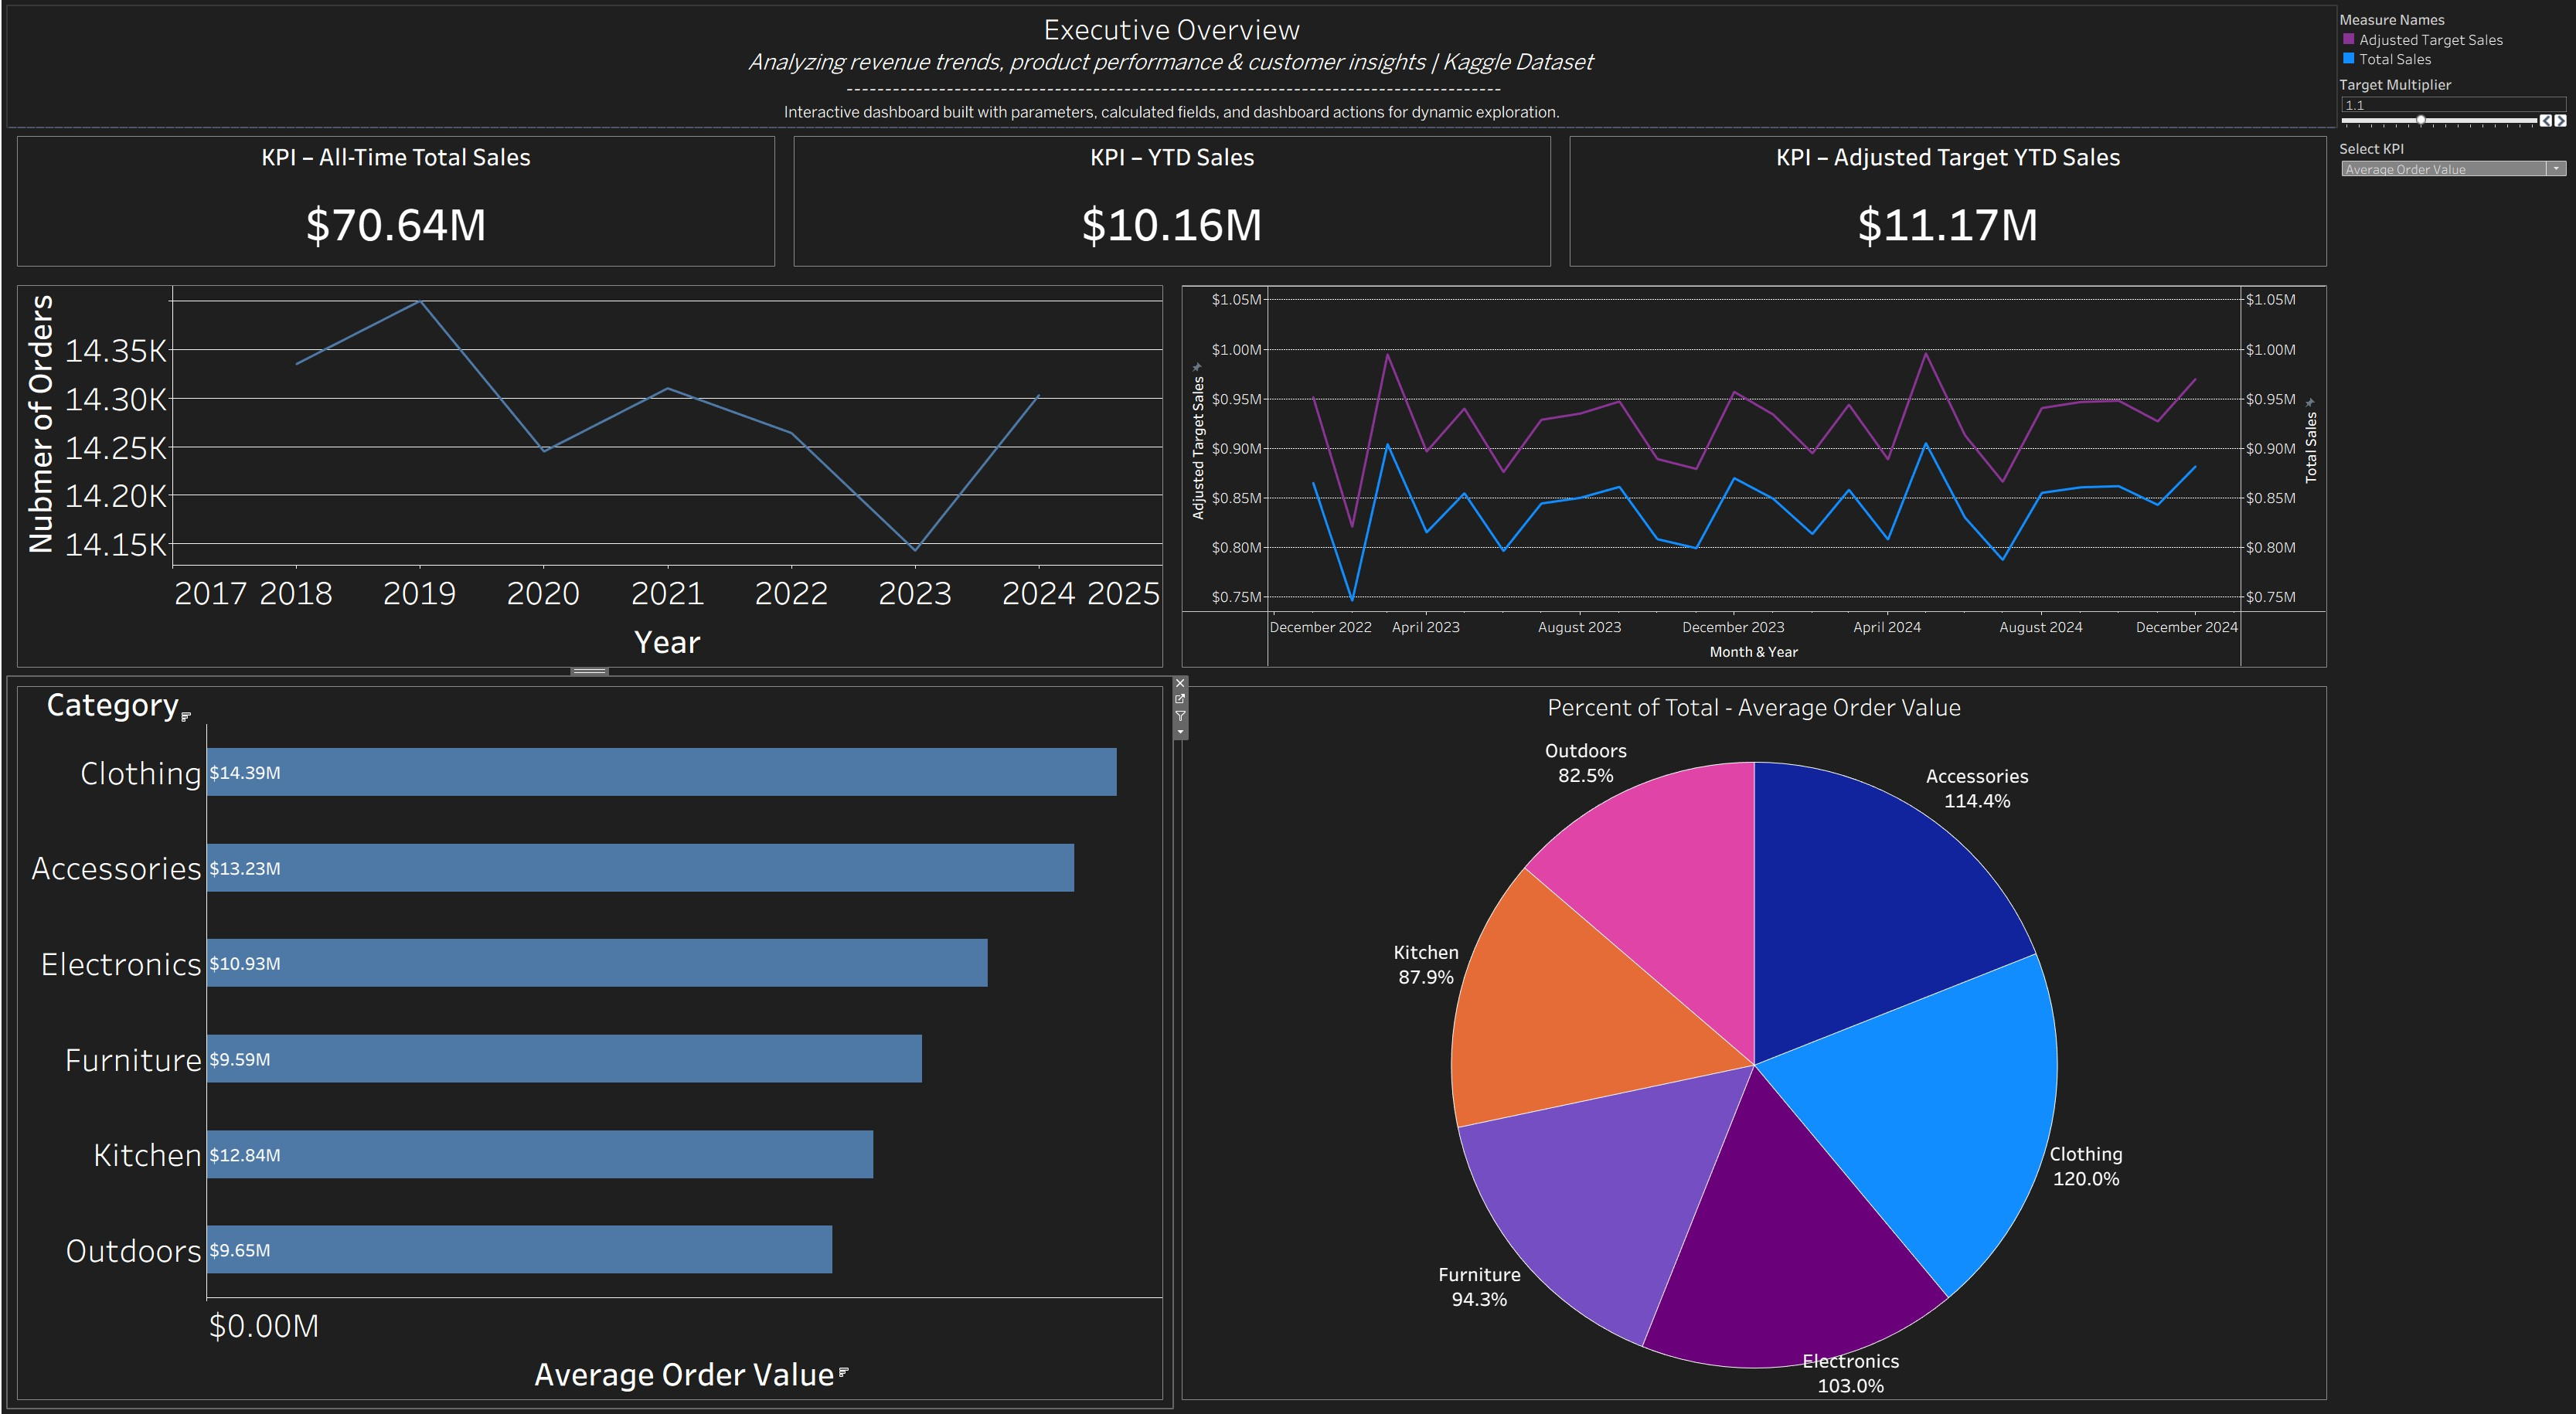

What the dashboard file says about the page in this screenshot:
{"tool":"tableau","page":{"name":"Executive Overview","canvas":[1000,1000],"units":"permille","ordinal":0},"visuals":[{"type":"title","box":[2.4,4.4,995.2,85.2]},{"type":"worksheet","title":"KPI – Total Sales","mark":"Automatic","box":[2.7,90.1,331.5,78.6]},{"type":"worksheet","title":"KPI – YTD Sales","mark":"Automatic","box":[334.2,90.1,331.5,78.6]},{"type":"worksheet","title":"KPI – Adjusted Target Sales","mark":"Automatic","box":[665.8,90.1,331.5,78.6]},{"type":"worksheet","title":"Orders over Time","mark":"Automatic","rows":["OrderDateKey"],"cols":["Date"],"box":[2.4,169.2,497.6,250.6]},{"type":"worksheet","title":"Sales over Time","mark":"Automatic","rows":["Calculation_1981929752657920"],"cols":["Date"],"box":[500,169.2,497.6,250.6]},{"type":"worksheet","title":"Sales by Category","mark":"Automatic","rows":["Category"],"cols":["Calculation_1981929752657920"],"box":[2.4,419.8,497.6,575.9]},{"type":"worksheet","title":"Donut chart – Total Sales by Category","mark":"Pie","box":[500,419.8,497.6,575.9]}]}

Visuals, with their boxes on the dashboard's canvas, which has no fixed pixel size, in thousandths of its width and height (x1, y1, x2, y2). These are canvas units, not pixel positions in the 2576x1414 screenshot, which may show the page scaled, cropped or inside an application window:
title: (2, 4, 998, 90)
"KPI – Total Sales" worksheet: (3, 90, 334, 169)
"KPI – YTD Sales" worksheet: (334, 90, 666, 169)
"KPI – Adjusted Target Sales" worksheet: (666, 90, 997, 169)
"Orders over Time" worksheet: (2, 169, 500, 420)
"Sales over Time" worksheet: (500, 169, 998, 420)
"Sales by Category" worksheet: (2, 420, 500, 996)
"Donut chart – Total Sales by Category" worksheet (Pie marks): (500, 420, 998, 996)
